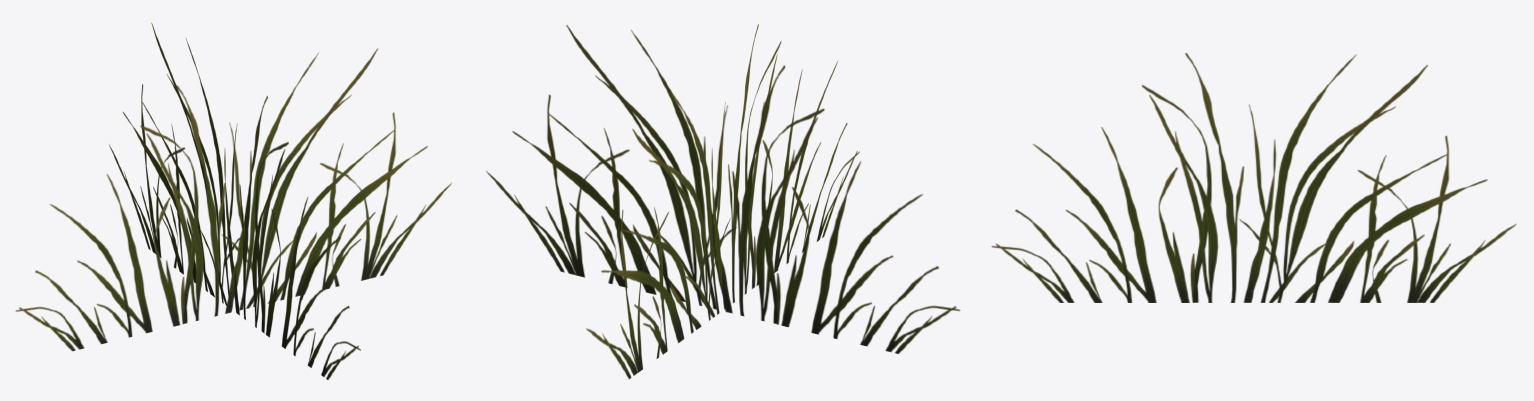
Rendered from grass2_lod2.glb.
3 views of the same model, side by side, from view 1: azimuth 30°, elevation 25°; view 2: azimuth 150°, elevation 25°; view 3: azimuth 270°, elevation 25° (orthographic). The views are drawn at different scales.
Visible parts, largest first — view 1: grass2_LOD2; view 2: grass2_LOD2; view 3: grass2_LOD2.
Part boxes in pixels (x1,y1,x2,y2): grass2_LOD2: [15, 23, 451, 379]; grass2_LOD2: [486, 24, 960, 379]; grass2_LOD2: [991, 52, 1516, 302].
Bounding box in the file's own units: 1 × 0.5403 × 1.
1 material, 1 textured.
